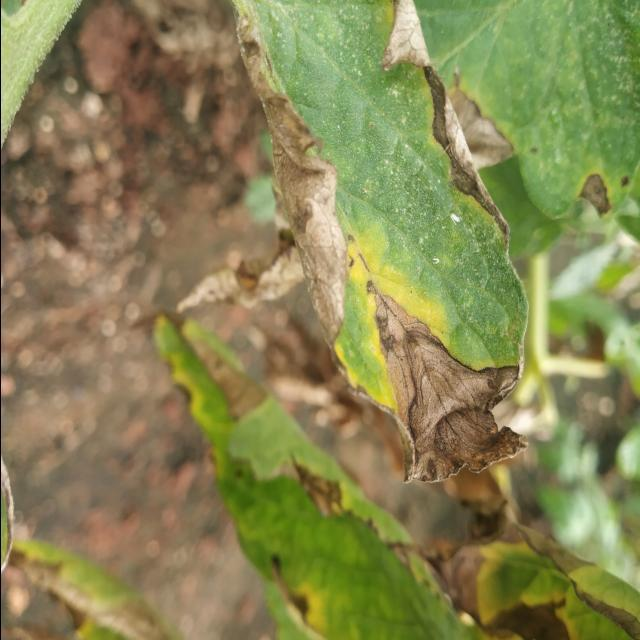Tomato mosaic virus leaf: (231, 1, 532, 487)
